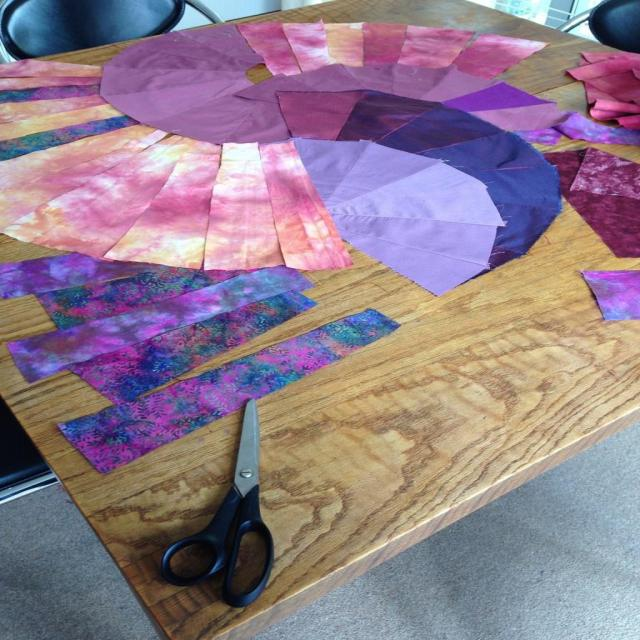scissor: (153, 398, 274, 608)
